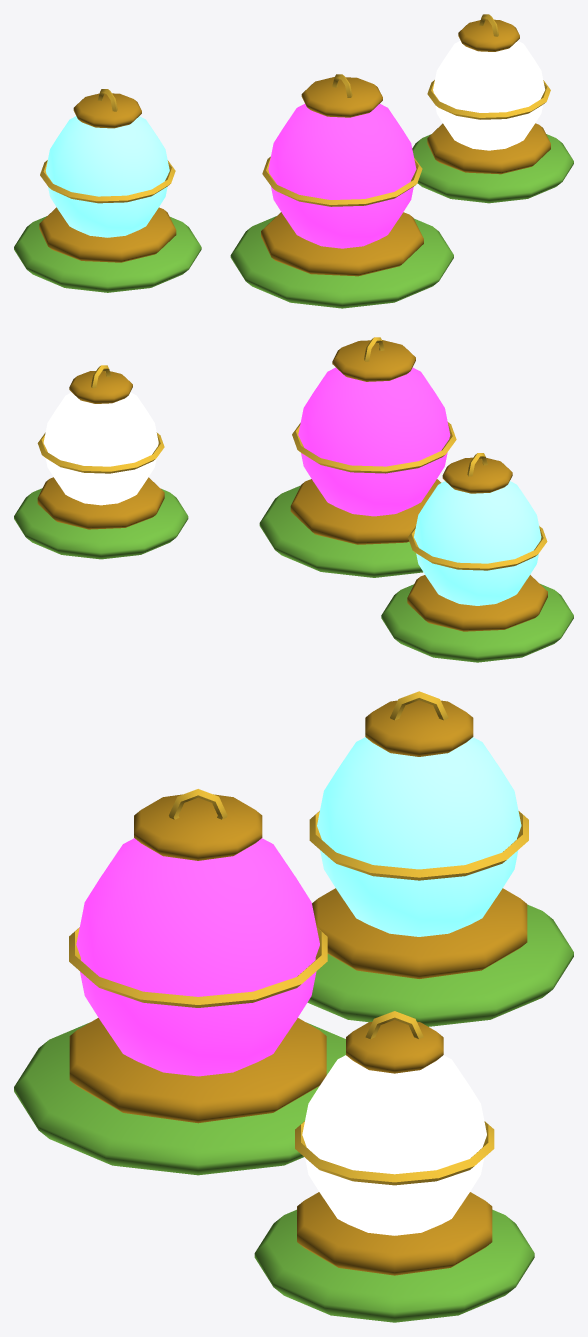
Rendered from W6_FloatingLanterns.fbx.
3 renders of one model, top to bottom at view 1: azimuth 30°, elevation 25°; view 2: azimuth 150°, elevation 25°; view 3: azimuth 270°, elevation 25°, orthographic. The views are drawn at different scales.
Parts seen in each view (by area): view 1: W6_FloatingLanterns; view 2: W6_FloatingLanterns; view 3: W6_FloatingLanterns.
Part boxes in pixels (left/top/right/bottom): W6_FloatingLanterns: left=14, top=14, right=573, bottom=308; W6_FloatingLanterns: left=14, top=337, right=573, bottom=662; W6_FloatingLanterns: left=14, top=691, right=573, bottom=1322.
Bounding box in the file's own units: 4.1 × 1.41 × 2.28.
